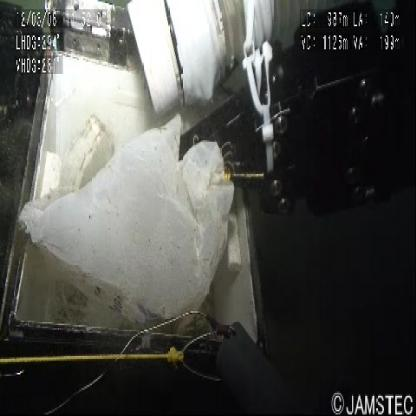Rov: (39, 2, 416, 237), (2, 2, 35, 92)
Rác: (10, 108, 271, 334)
